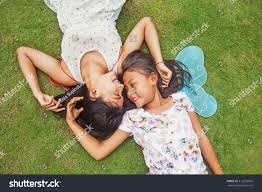no-mask: (82, 66, 126, 125), (116, 52, 159, 112)
